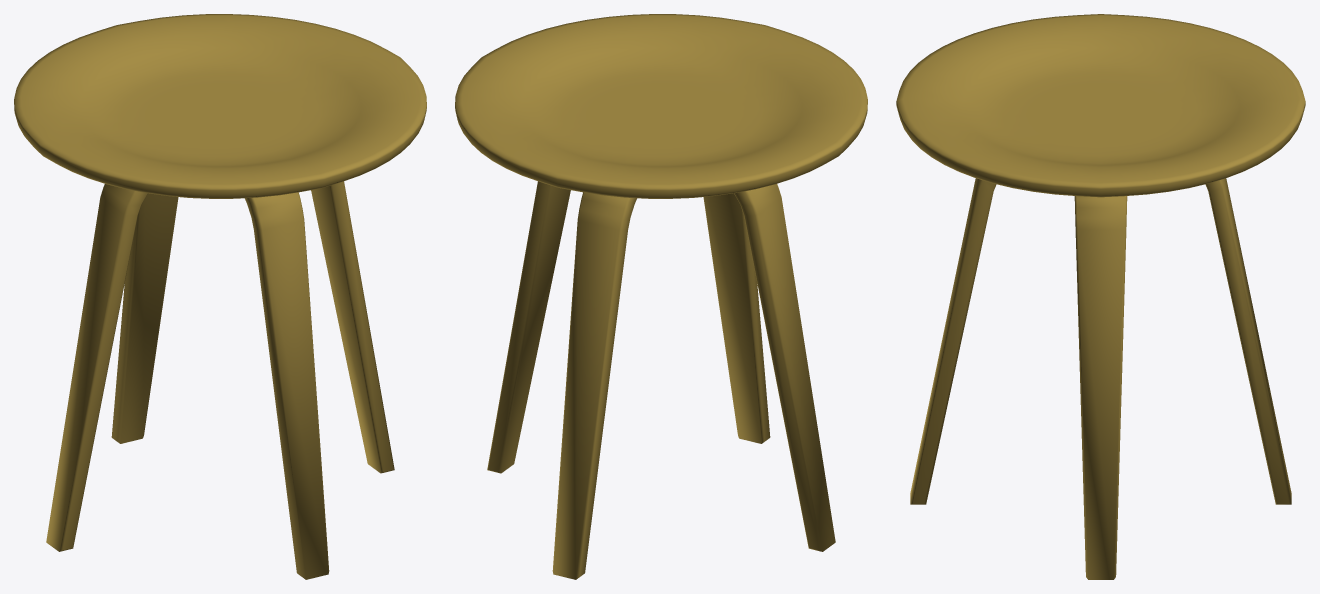
The model's file is Stool fbx.fbx.
3 renders of one model, left to right at view 1: azimuth 30°, elevation 25°; view 2: azimuth 150°, elevation 25°; view 3: azimuth 270°, elevation 25°, orthographic.
Parts seen in each view (by area): view 1: RealDWGPart; view 2: RealDWGPart; view 3: RealDWGPart.
Part boxes in pixels (x1,y1,x2,y2): RealDWGPart: (14, 14, 426, 579); RealDWGPart: (455, 14, 867, 579); RealDWGPart: (896, 14, 1305, 579).
Size of the model in its own units: 32.71 by 35.29 by 32.71.
